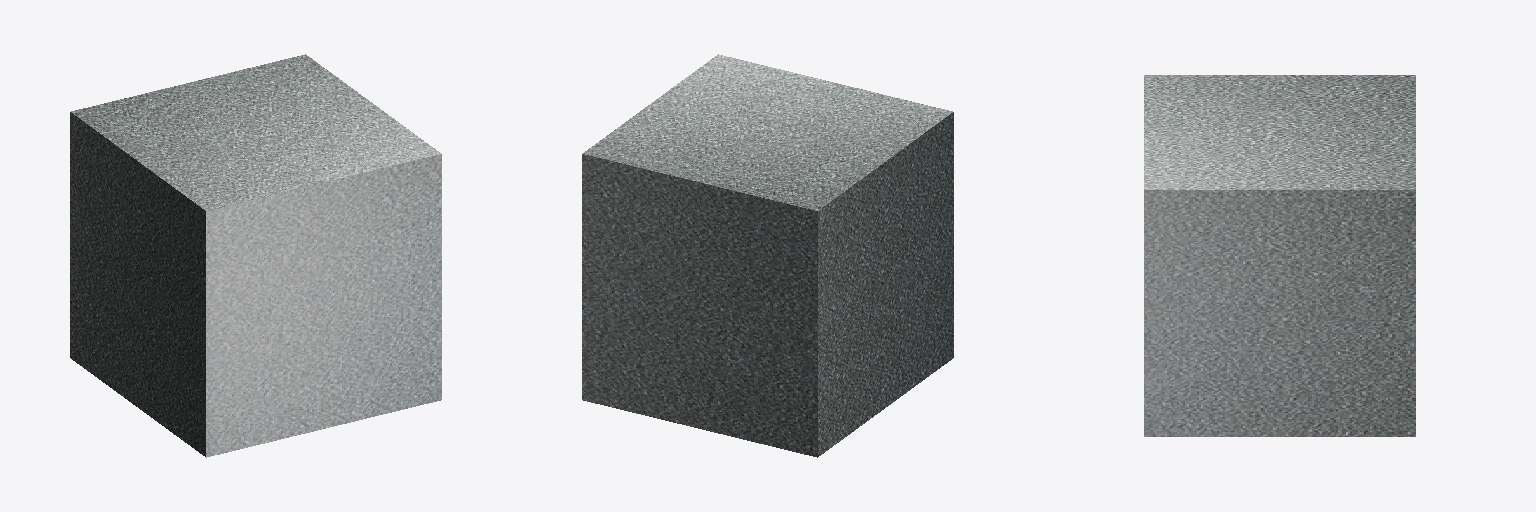
The picture shows the model from 3 angles: view 1: azimuth 30°, elevation 25°; view 2: azimuth 150°, elevation 25°; view 3: azimuth 270°, elevation 25°; orthographic projection.
Visible parts, largest first — view 1: Cube.009; view 2: Cube.009; view 3: Cube.009.
Boxes of the visible parts, x1,y1,x2,y2 form: Cube.009: [70, 54, 441, 457]; Cube.009: [582, 54, 953, 457]; Cube.009: [1144, 75, 1415, 436].
Bounding box in the file's own units: 20 × 20 × 20.
Materials: 1 (1 with a texture image).